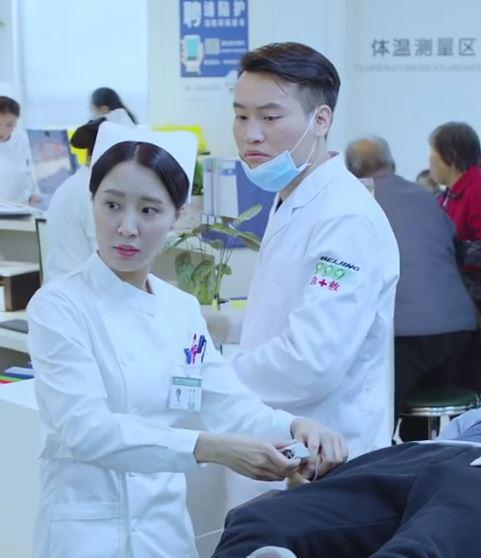NONE: (94, 178, 166, 272), (1, 110, 17, 143)
WRONG: (233, 86, 306, 183)
